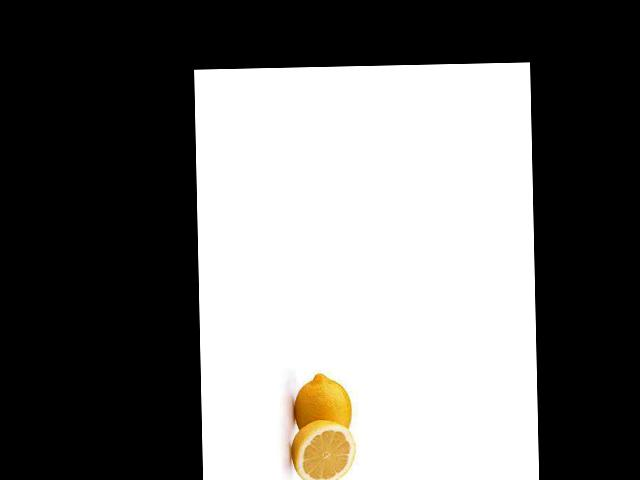lemon: (284, 371, 357, 442)
